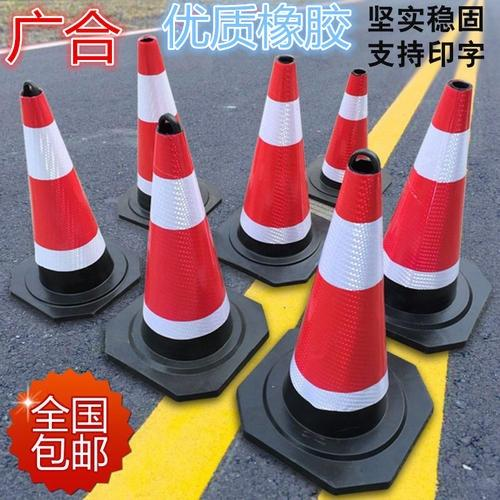cone_barrel: (283, 145, 399, 442), (132, 109, 236, 365), (13, 82, 121, 305), (385, 85, 482, 324), (228, 56, 320, 266), (121, 38, 210, 233), (317, 68, 373, 196)
